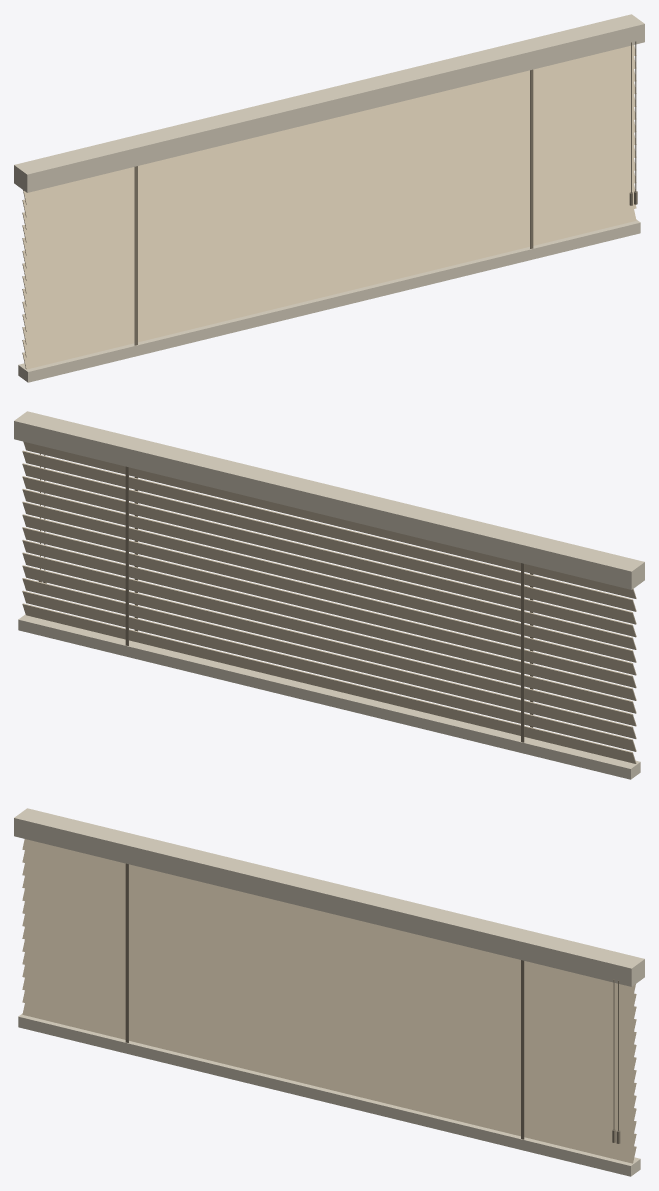
The model's file is Blind_C_Kitchen.fbx.
3 renders of one model, top to bottom at view 1: azimuth 30°, elevation 25°; view 2: azimuth 150°, elevation 25°; view 3: azimuth 330°, elevation 25°, orthographic.
Visible parts, largest first — view 1: Blind_C_Kitchen_Slats, Blind_C_Kitchen_Rails, Blind_C_Kitchen_Tapes_and_Pullcords; view 2: Blind_C_Kitchen_Slats, Blind_C_Kitchen_Rails, Blind_C_Kitchen_Tapes_and_Pullcords; view 3: Blind_C_Kitchen_Slats, Blind_C_Kitchen_Rails, Blind_C_Kitchen_Tapes_and_Pullcords.
Boxes of the visible parts, x1,y1,x2,y2 form: Blind_C_Kitchen_Slats: (22, 45, 636, 369); Blind_C_Kitchen_Rails: (14, 14, 644, 382); Blind_C_Kitchen_Tapes_and_Pullcords: (134, 41, 637, 345); Blind_C_Kitchen_Slats: (22, 441, 636, 763); Blind_C_Kitchen_Rails: (14, 411, 644, 779); Blind_C_Kitchen_Tapes_and_Pullcords: (38, 454, 533, 742); Blind_C_Kitchen_Slats: (22, 839, 636, 1163); Blind_C_Kitchen_Rails: (14, 808, 644, 1176); Blind_C_Kitchen_Tapes_and_Pullcords: (125, 863, 620, 1143).
Bounding box in the file's own units: 194 × 62.87 × 8.78.
